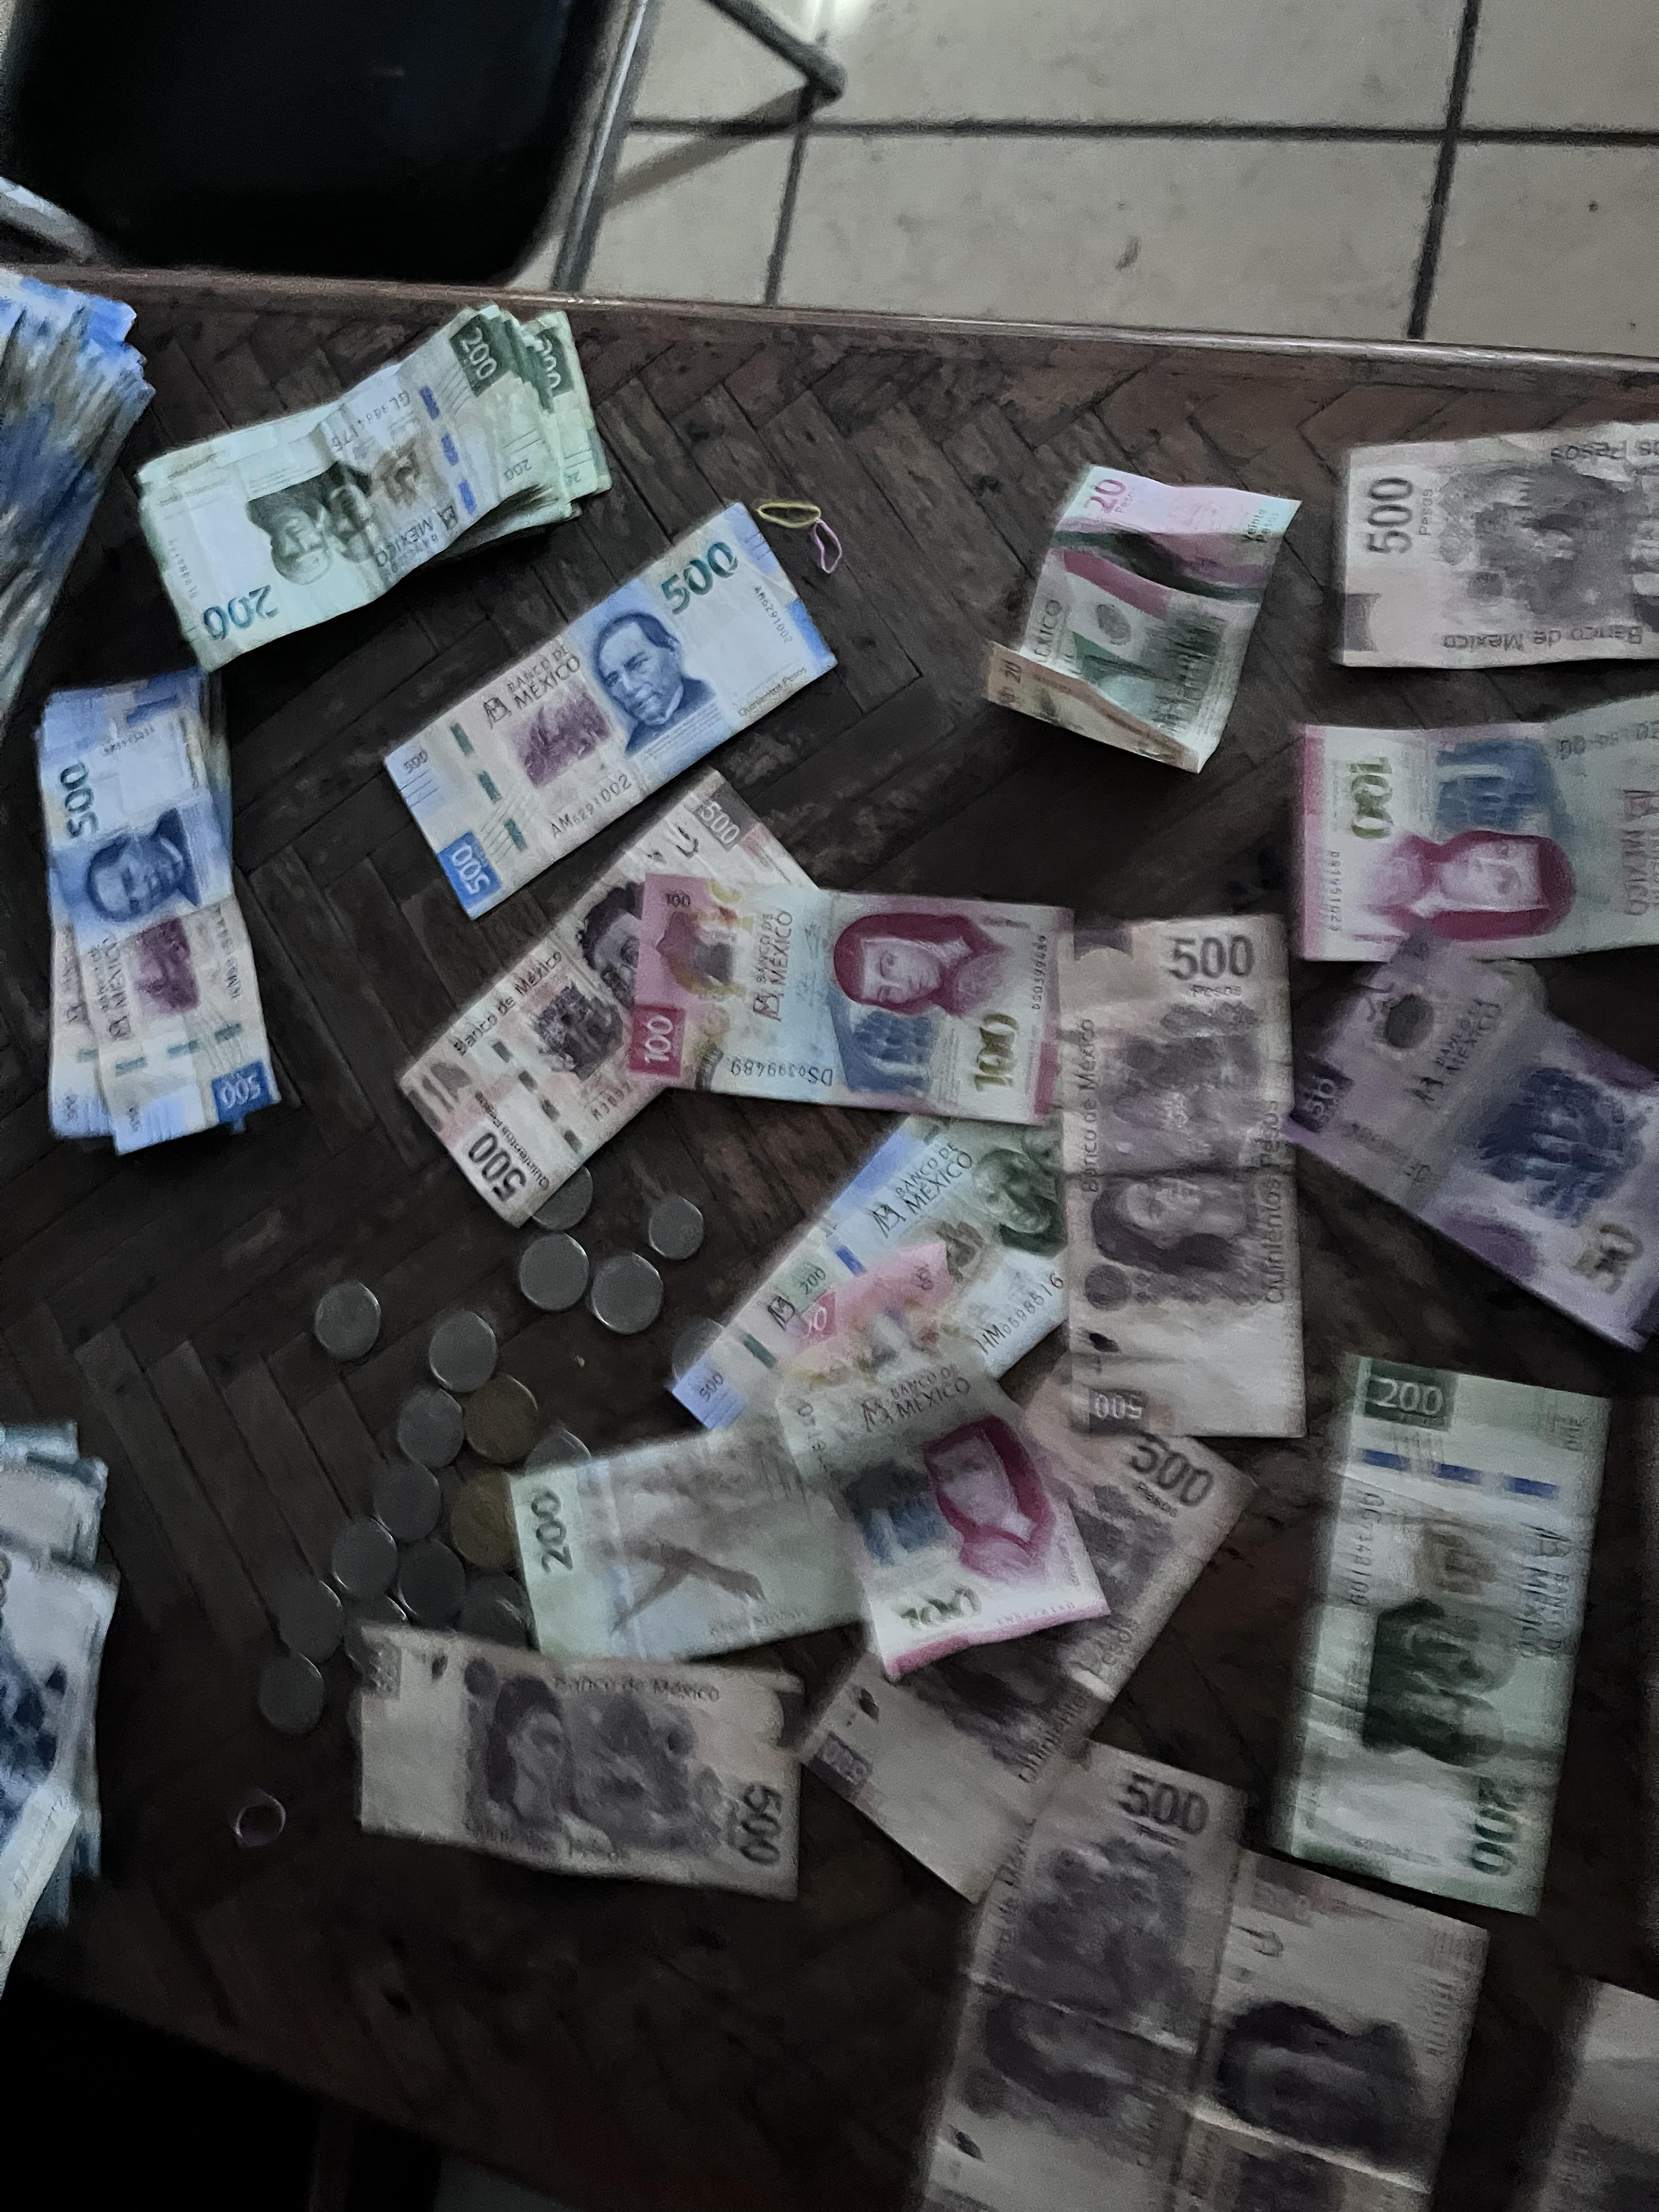100: (765, 1254, 1105, 1684), (598, 859, 1068, 1123), (1267, 691, 1659, 977)
20: (976, 434, 1279, 794)
200: (1279, 1292, 1640, 1911), (91, 320, 610, 665), (483, 1430, 922, 1709), (875, 1136, 1105, 1367)
50: (1305, 927, 1659, 1352)
500: (802, 1346, 1243, 1890), (354, 752, 816, 1179), (897, 1703, 1244, 2212), (1009, 916, 1326, 1453), (319, 1602, 810, 1923), (1188, 1808, 1469, 2212), (1324, 420, 1659, 693), (1485, 1946, 1659, 2212)
500 nuevo: (359, 493, 850, 918), (23, 691, 315, 1174)
